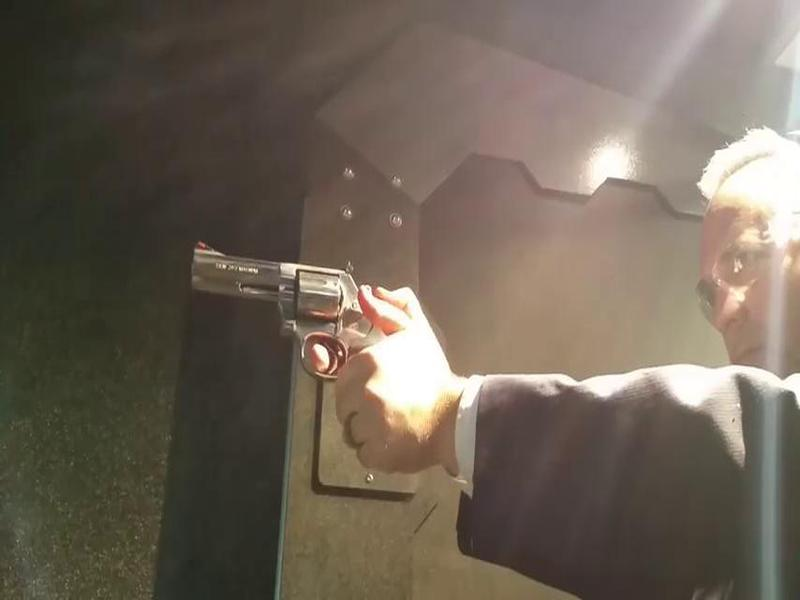Revolver: (184, 234, 390, 404)
